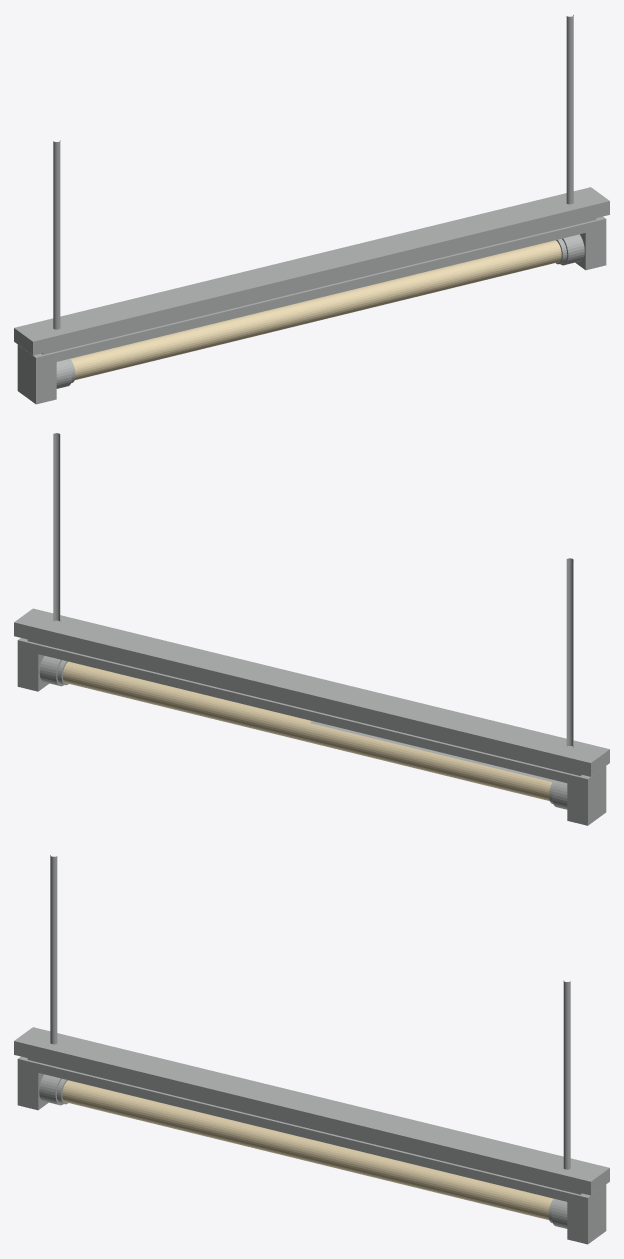
File: lampu gantung.fbx
3 renders of one model, top to bottom at view 1: azimuth 30°, elevation 25°; view 2: azimuth 150°, elevation 25°; view 3: azimuth 330°, elevation 25°, orthographic.
Parts seen in each view (by area): view 1: Lampu_gantung_1; view 2: Lampu_gantung_1; view 3: Lampu_gantung_1.
Part boxes in pixels (x1,y1,x2,y2): Lampu_gantung_1: (14,15,609,404); Lampu_gantung_1: (14,433,609,825); Lampu_gantung_1: (14,855,609,1244).
Bounding box in the file's own units: 189 × 78.67 × 10.8.
